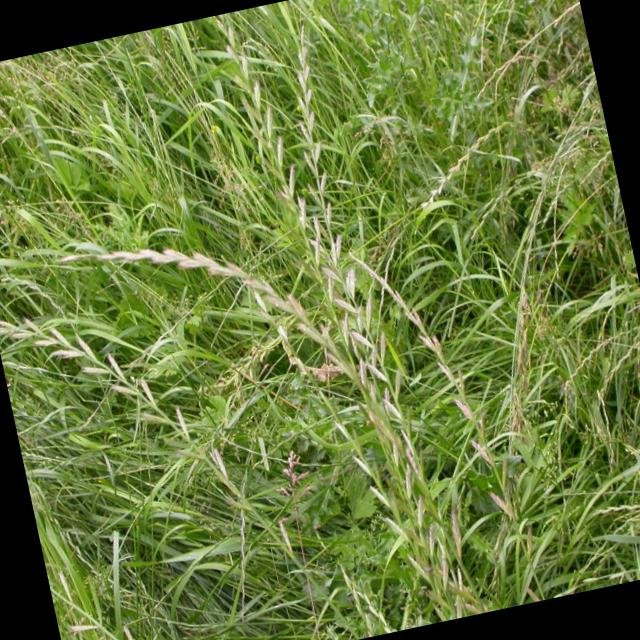Lolium: (0, 0, 640, 640), (2, 155, 396, 532), (7, 264, 351, 640), (234, 26, 428, 550), (274, 21, 426, 566)
